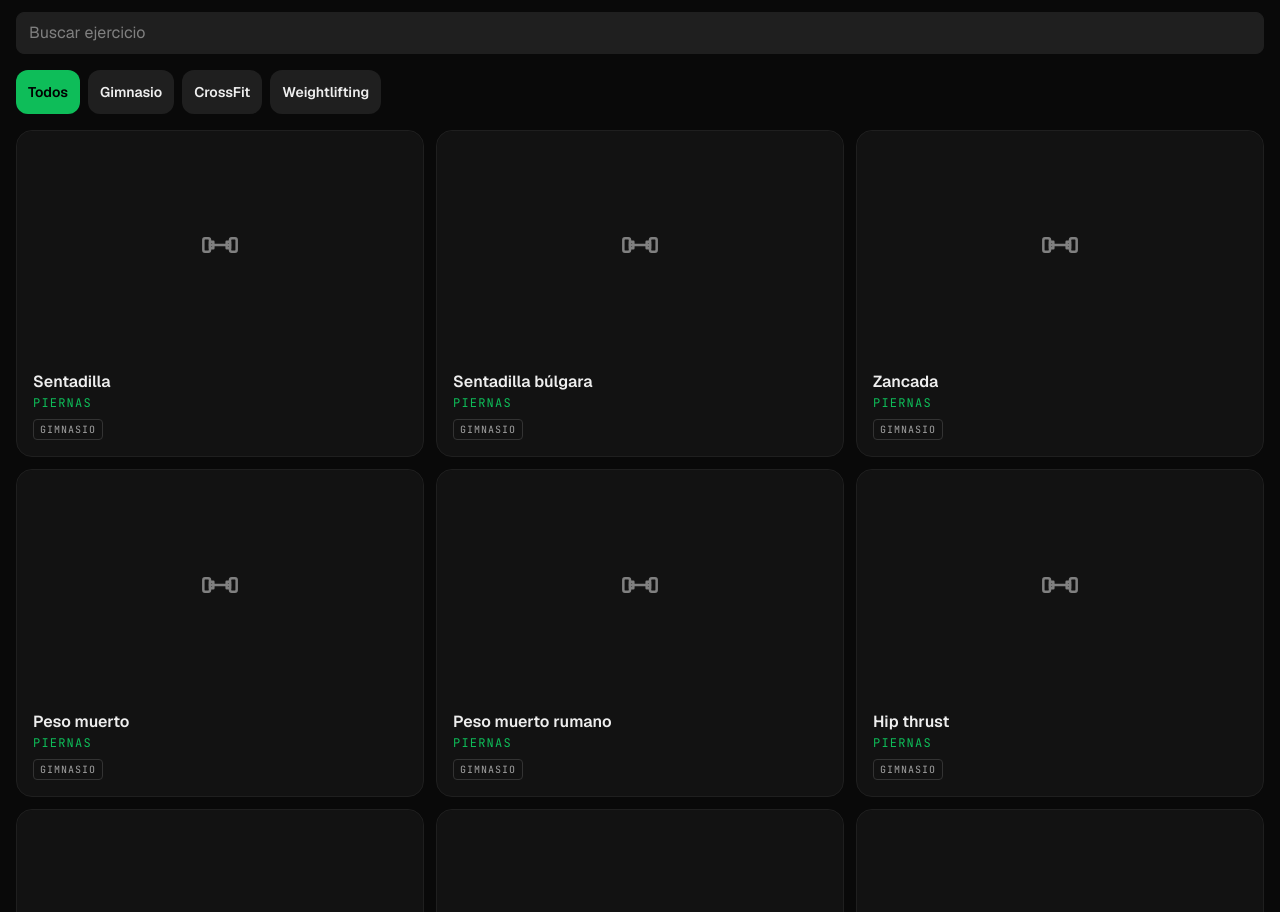
Test: ExerciseLibrary › shows Sin resultados when nothing matches
This screenshot has width=1280, height=912.
Type "zzzz" into the search field labelled "Buscar ejercicio". click: (640, 33)
box: [16,12,1264,54]
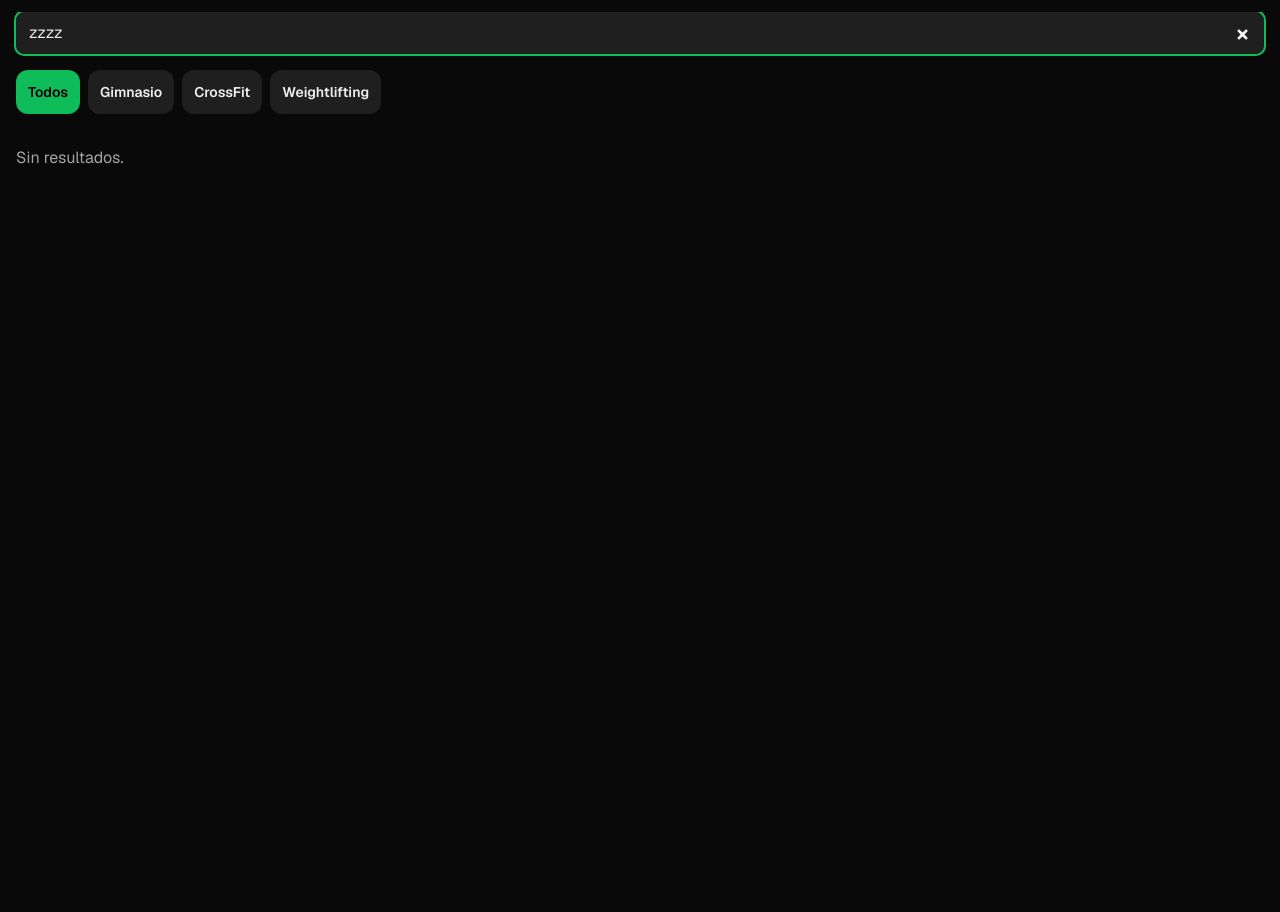
Result: the text "Sin resultados." is shown at [16,147,124,168]
